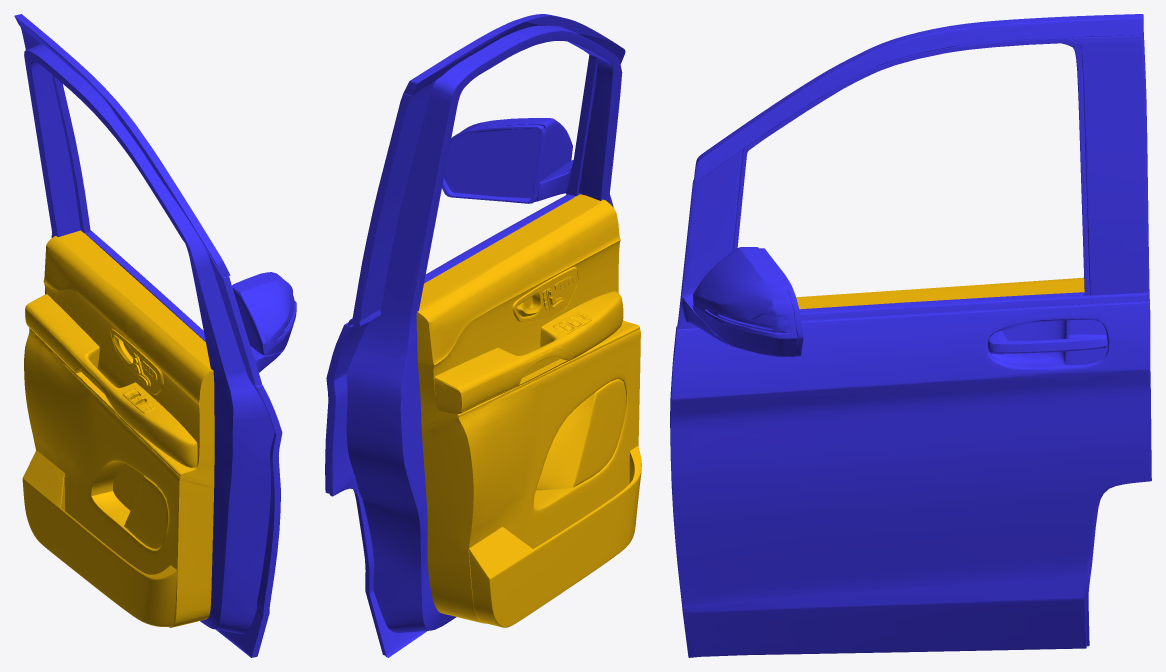
Rendered from door_front_left.fbx.
The picture shows the model from 3 angles, left to right: view 1: azimuth 30°, elevation 25°; view 2: azimuth 150°, elevation 25°; view 3: azimuth 270°, elevation 25°; orthographic projection. The views are drawn at different scales.
Visible parts, largest first — view 1: CheMen_N_Q_L, CheMen_Q_L; view 2: CheMen_N_Q_L, CheMen_Q_L; view 3: CheMen_Q_L, CheMen_N_Q_L.
Boxes of the visible parts, left/top/right/bottom form: CheMen_N_Q_L: left=22, top=230, right=214, bottom=627; CheMen_Q_L: left=14, top=14, right=296, bottom=657; CheMen_N_Q_L: left=416, top=194, right=641, bottom=627; CheMen_Q_L: left=325, top=14, right=625, bottom=657; CheMen_Q_L: left=670, top=14, right=1151, bottom=657; CheMen_N_Q_L: left=796, top=277, right=1084, bottom=309.
Bounding box in the file's own units: 44 × 139 × 98.8.
